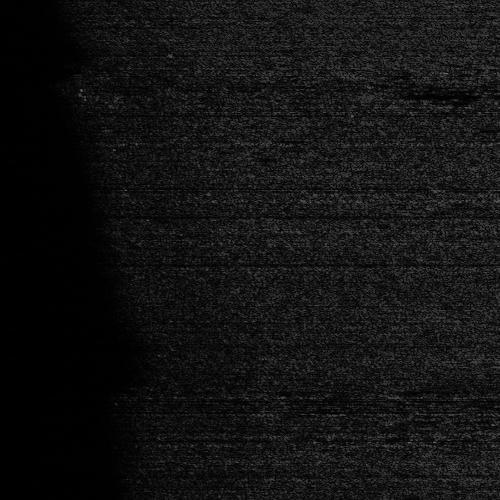object: (346, 89, 409, 98)
shadow: (378, 89, 500, 98)
